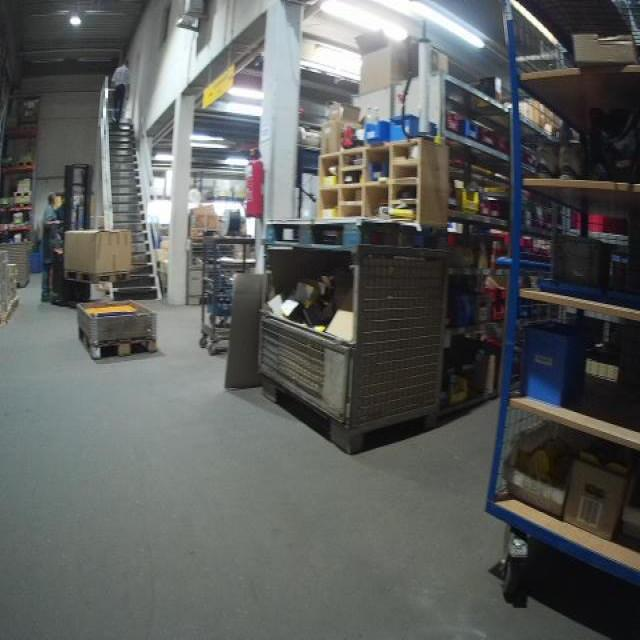pallet: (76, 327, 158, 363), (61, 266, 130, 286), (14, 277, 29, 289), (12, 191, 32, 197), (16, 161, 34, 166), (15, 203, 32, 207)
pallet_truck: (46, 158, 96, 306)
small_load_carrier: (515, 313, 591, 409)
stillage: (256, 235, 455, 460), (184, 233, 254, 306), (1, 239, 37, 287)
